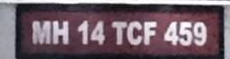1: (76, 20, 90, 45)
4: (90, 20, 107, 46), (163, 21, 179, 46)
5: (178, 21, 193, 47)
9: (193, 21, 207, 47)
C: (126, 20, 143, 46)
F: (143, 21, 157, 46)
H: (51, 20, 70, 46)
M: (31, 20, 52, 45)
T: (110, 21, 128, 45)
